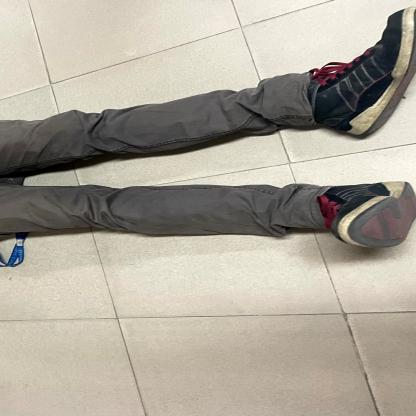leg: (3, 2, 416, 175), (3, 178, 416, 254)
